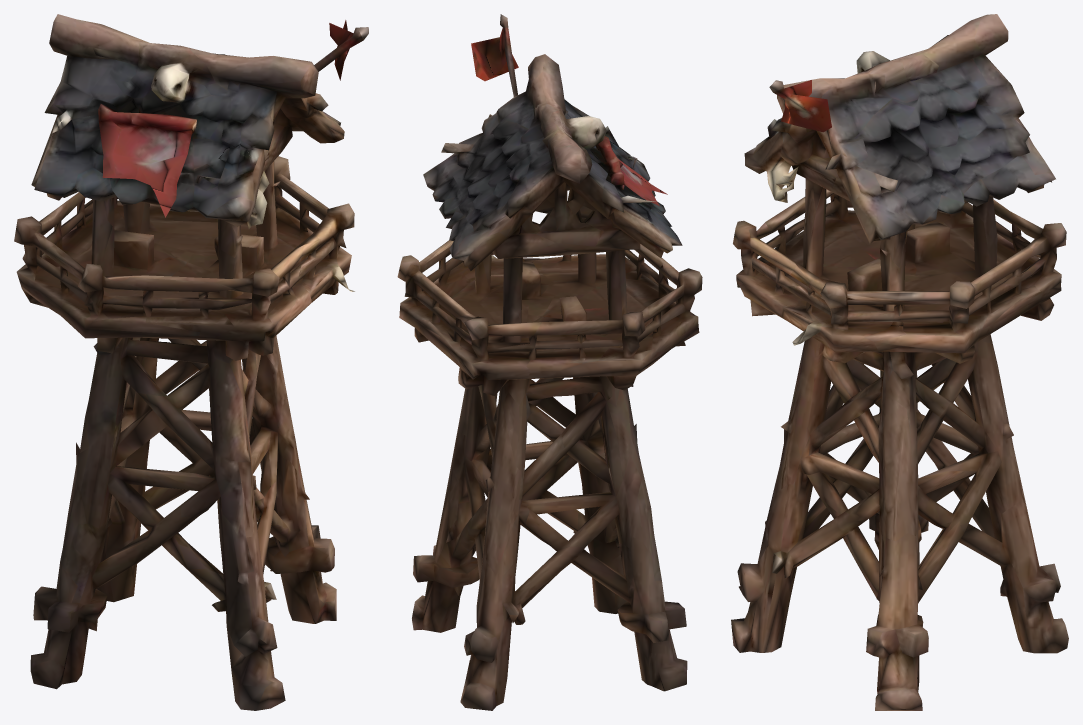
File: orctower.glb
The picture shows the model from 3 angles, left to right: view 1: azimuth 30°, elevation 25°; view 2: azimuth 150°, elevation 25°; view 3: azimuth 270°, elevation 25°; orthographic projection. The views are drawn at different scales.
Visible parts, largest first — view 1: tripo_node_9e798a97-7e60-44bc-8950-b9b1d90c4d02; view 2: tripo_node_9e798a97-7e60-44bc-8950-b9b1d90c4d02; view 3: tripo_node_9e798a97-7e60-44bc-8950-b9b1d90c4d02.
Part boxes in pixels (bbox=[...]): tripo_node_9e798a97-7e60-44bc-8950-b9b1d90c4d02: bbox=[14, 14, 368, 710]; tripo_node_9e798a97-7e60-44bc-8950-b9b1d90c4d02: bbox=[397, 14, 702, 710]; tripo_node_9e798a97-7e60-44bc-8950-b9b1d90c4d02: bbox=[731, 14, 1068, 710].
Size of the model in its own units: 0.4967 by 0.9961 by 0.4937.
1 material, 1 textured.
